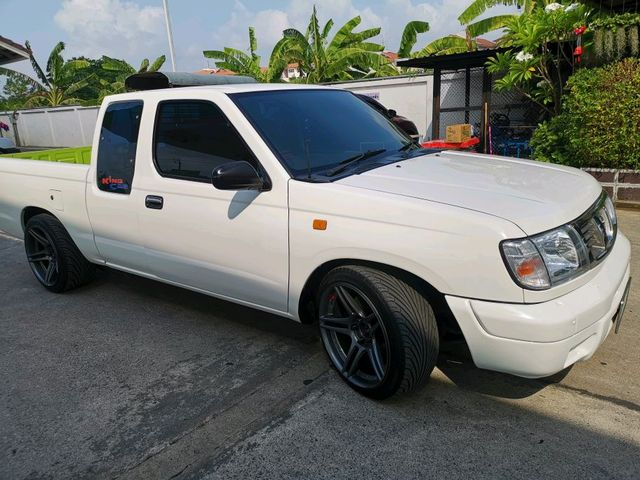pickup: (5, 80, 632, 406)
